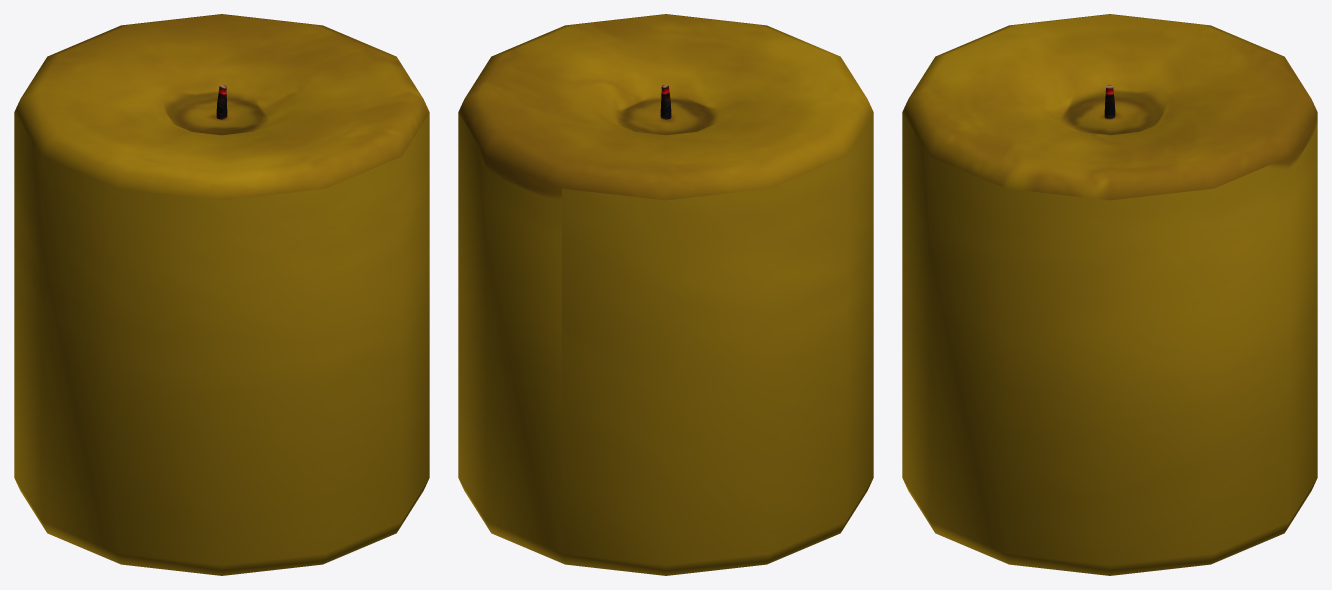
Rendered from tube_candle3.fbx.
3 renders of one model, left to right at view 1: azimuth 30°, elevation 25°; view 2: azimuth 150°, elevation 25°; view 3: azimuth 270°, elevation 25°, orthographic.
Visible parts, largest first — view 1: candle_tube3; view 2: candle_tube3; view 3: candle_tube3.
Boxes of the visible parts, box(x1,y1,x2,y2) form: candle_tube3: box(14, 14, 429, 575); candle_tube3: box(458, 14, 873, 575); candle_tube3: box(902, 14, 1317, 575).
Bounding box in the file's own units: 11.44 × 12.45 × 11.44.
